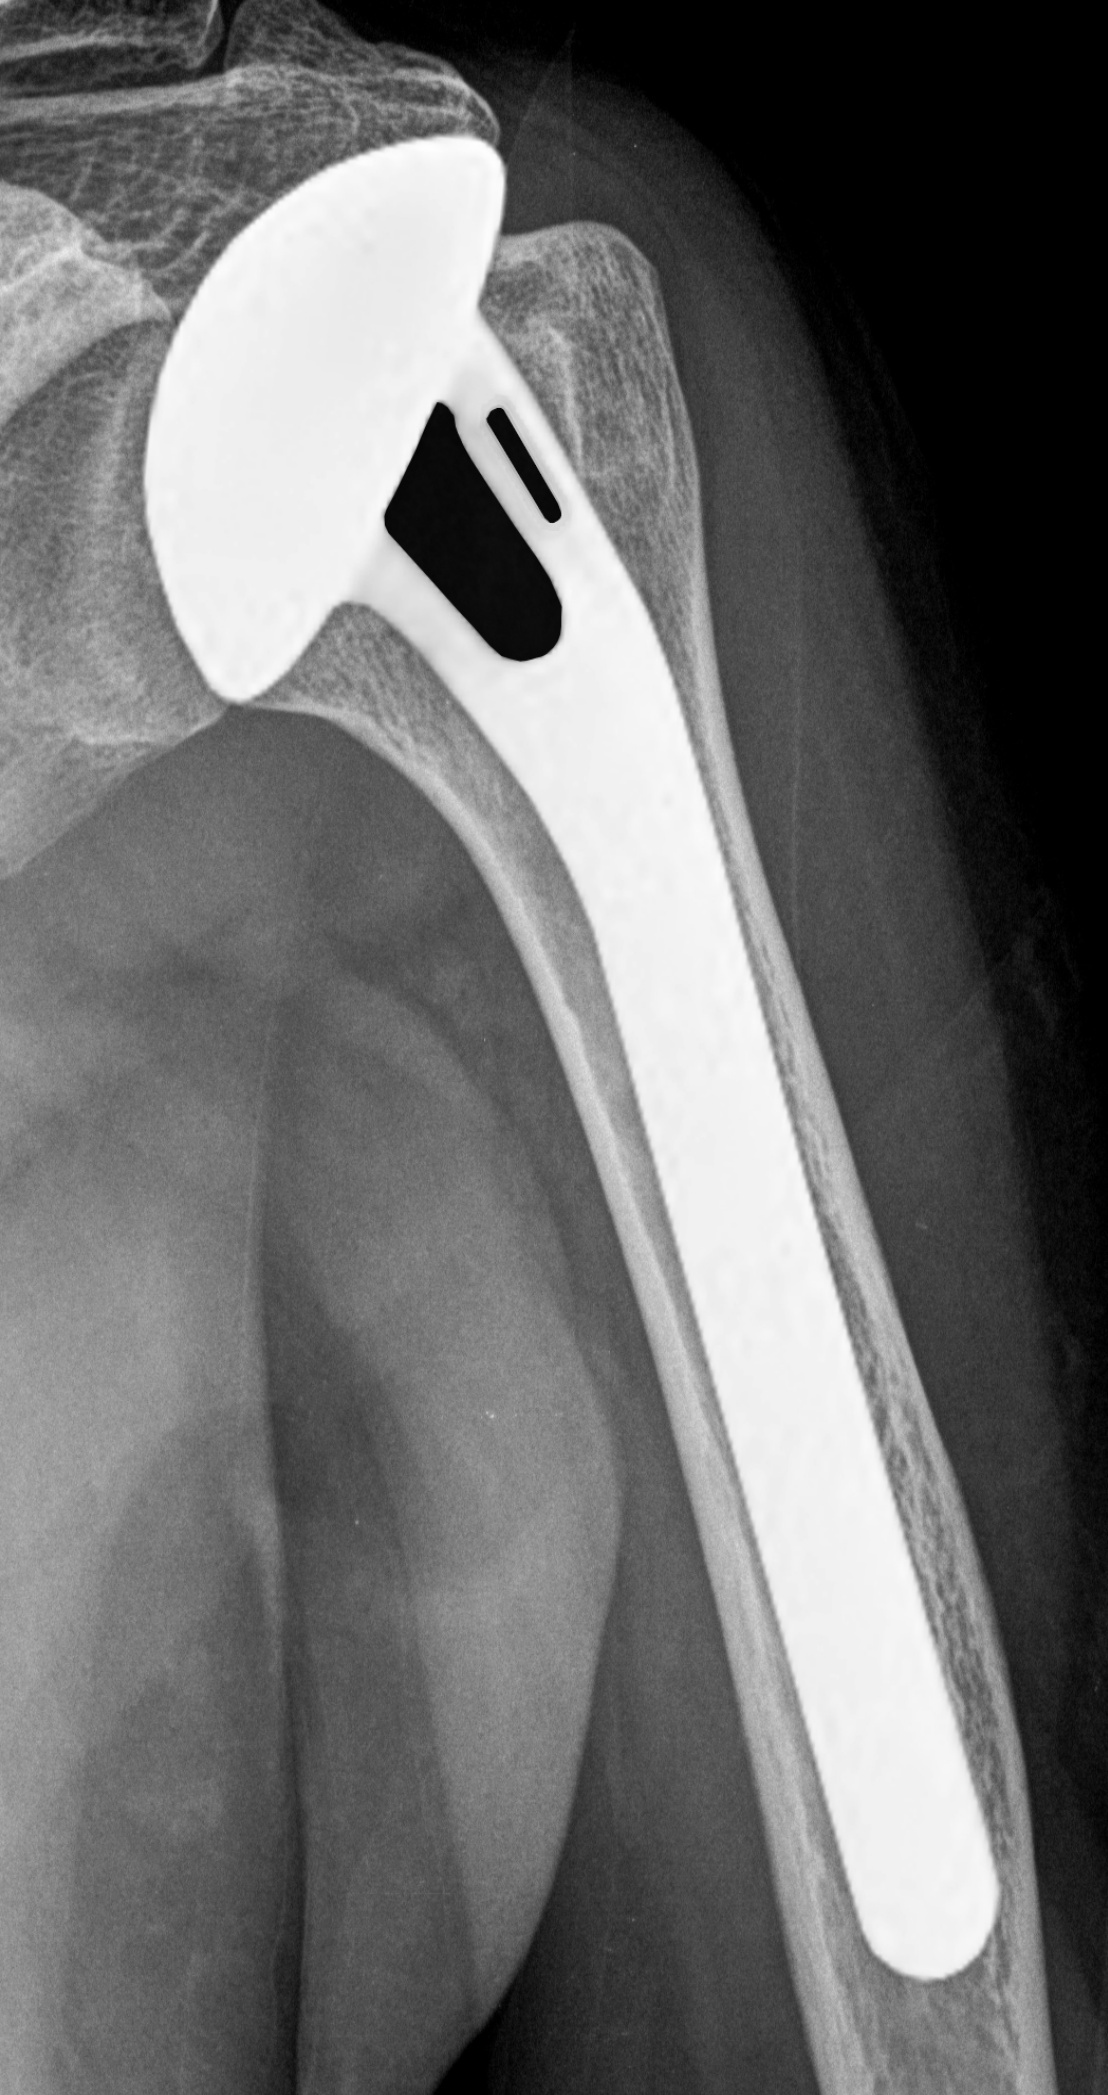Shoulder - AequalisFracture - Tornier: (125, 112, 614, 712)
